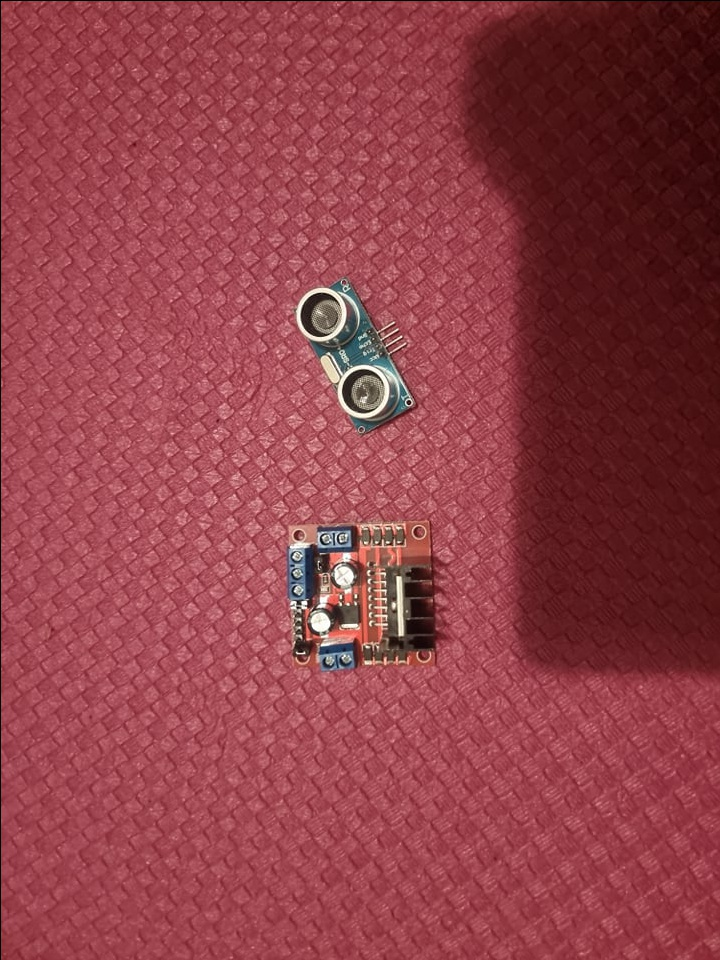MOTOR: (285, 521, 443, 673)
SENSOR: (287, 272, 412, 437)
